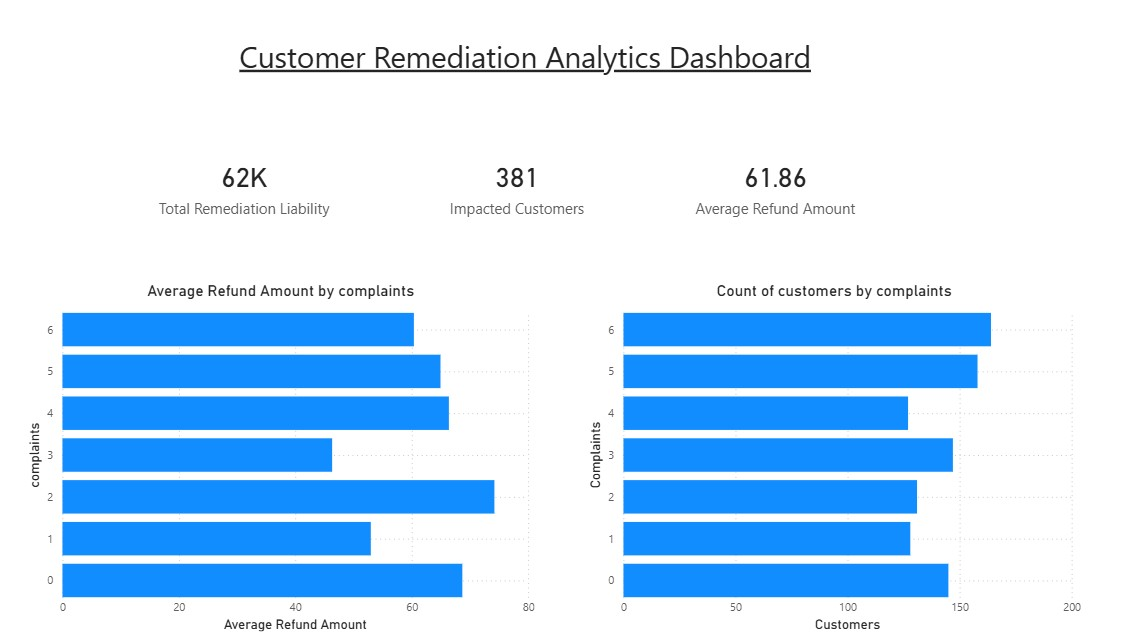

Layout of this report page (visuals, bound fields, positions):
{"tool":"powerbi","page":{"name":"Remediation Analytics Dashboard","canvas":[1280,720],"ordinal":0},"visuals":[{"type":"card","fields":{"Values":["customers.Total Remediation Liability"]},"box":[176,144,288,144],"z":0},{"type":"card","fields":{"Values":["customers.Impacted Customers"]},"box":[464,144,304,144],"z":1000},{"type":"barChart","fields":{"Category":["customers.complaints"],"Y":["customers.Average Refund Amount"]},"box":[80,320,560,384],"z":1001},{"type":"clusteredBarChart","title":"Count of customers by complaints","fields":{"Category":["customers.complaints"],"Y":["CountNonNull(customers.customer_id)"]},"box":[688,320,544,384],"z":1002},{"type":"textbox","box":[144,48,960,96],"z":1003},{"type":"card","fields":{"Values":["customers.Average Refund Amount"]},"box":[768,144,256,144],"z":1004}]}

Visuals, with their boxes in screenshot pixels (x1, y1, x2, y2), scaled from the page's 1280x720 canvas onto the 1123x642 screenshot:
card - customers.Total Remediation Liability: 154,128,407,257
card - customers.Impacted Customers: 407,128,674,257
barChart - customers.complaints x customers.Average Refund Amount: 70,285,562,628
"Count of customers by complaints" clusteredBarChart: 604,285,1081,628
textbox: 126,43,969,128
card - customers.Average Refund Amount: 674,128,898,257
